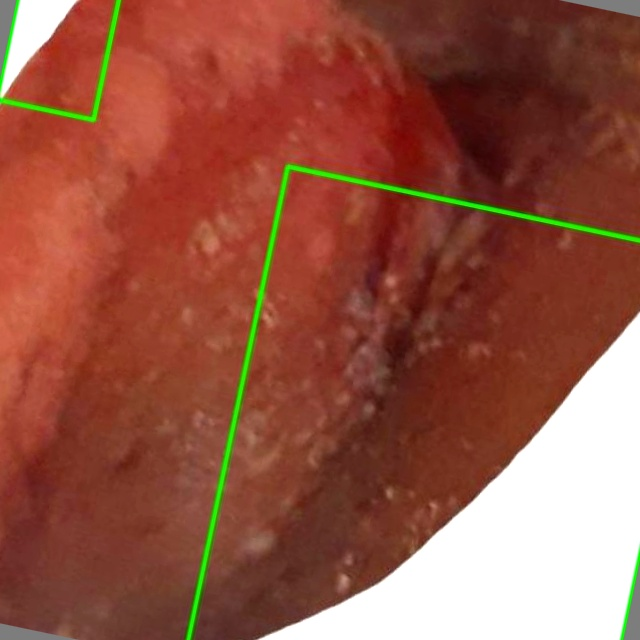Contact Dermatitis: (188, 166, 639, 639)
